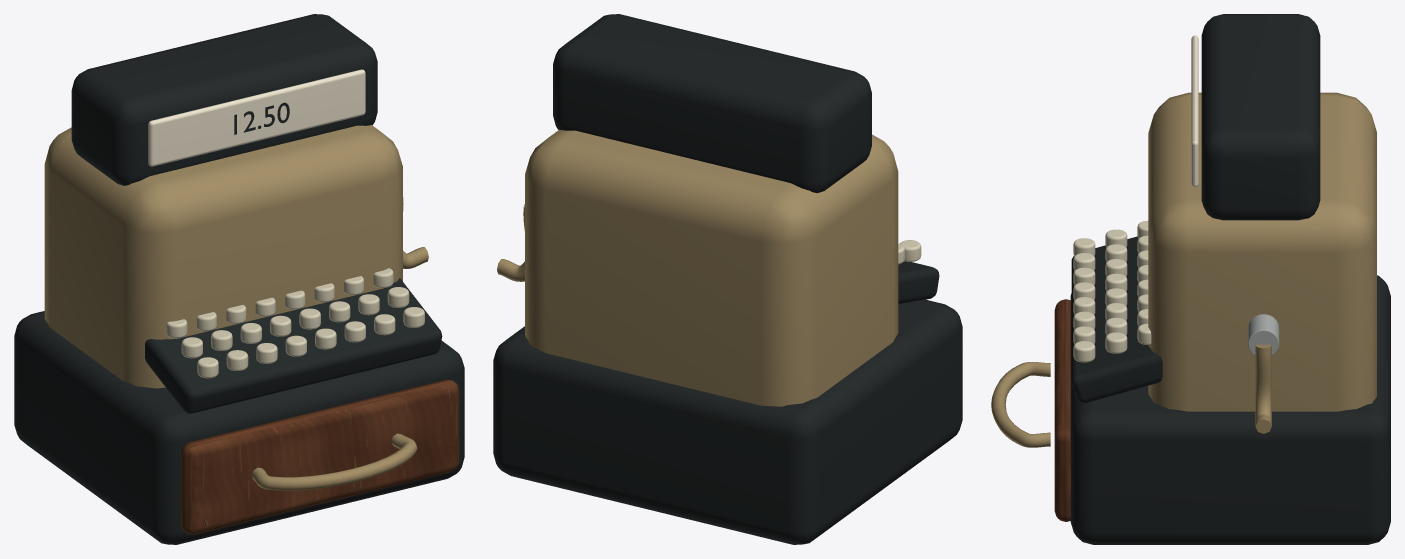
Rendered from shop_001_mechanical_cash_register.glb.
3 views of the same model, side by side, from view 1: azimuth 30°, elevation 25°; view 2: azimuth 150°, elevation 25°; view 3: azimuth 270°, elevation 25° (orthographic). The views are drawn at different scales.
Visible parts, largest first — view 1: Static_Bakelite_charcoal, Static_Aged_brass, Cash_Drawer, Number_Window, Static_Warm_ivory, Drawer_Handle; view 2: Static_Bakelite_charcoal, Static_Aged_brass; view 3: Static_Bakelite_charcoal, Static_Aged_brass, Static_Warm_ivory, Cash_Drawer, Drawer_Handle, Number_Window, Crank_Axle.
Boxes of the visible parts, bbox=[...] form: Static_Bakelite_charcoal: bbox=[14, 14, 464, 544]; Static_Aged_brass: bbox=[44, 125, 428, 388]; Cash_Drawer: bbox=[181, 379, 459, 534]; Number_Window: bbox=[148, 69, 365, 166]; Static_Warm_ivory: bbox=[166, 268, 424, 378]; Drawer_Handle: bbox=[251, 433, 417, 490]; Static_Bakelite_charcoal: bbox=[493, 14, 962, 544]; Static_Aged_brass: bbox=[497, 129, 898, 406]; Static_Bakelite_charcoal: bbox=[1070, 14, 1390, 544]; Static_Aged_brass: bbox=[1148, 92, 1376, 433]; Static_Warm_ivory: bbox=[1073, 221, 1151, 362]; Cash_Drawer: bbox=[1054, 299, 1070, 521]; Drawer_Handle: bbox=[991, 362, 1050, 447]; Number_Window: bbox=[1191, 35, 1198, 187]; Crank_Axle: bbox=[1248, 314, 1279, 355].
Bounding box in the file's own units: 0.46 × 0.486 × 0.437.
Materials: 6 (1 with a texture image).
